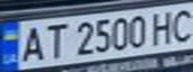0: (127, 11, 151, 48), (112, 15, 133, 52)
2: (69, 18, 97, 56)
5: (93, 16, 115, 54)
A: (15, 24, 48, 63)
C: (166, 4, 193, 43)
H: (148, 8, 178, 46)
T: (39, 20, 69, 61)
